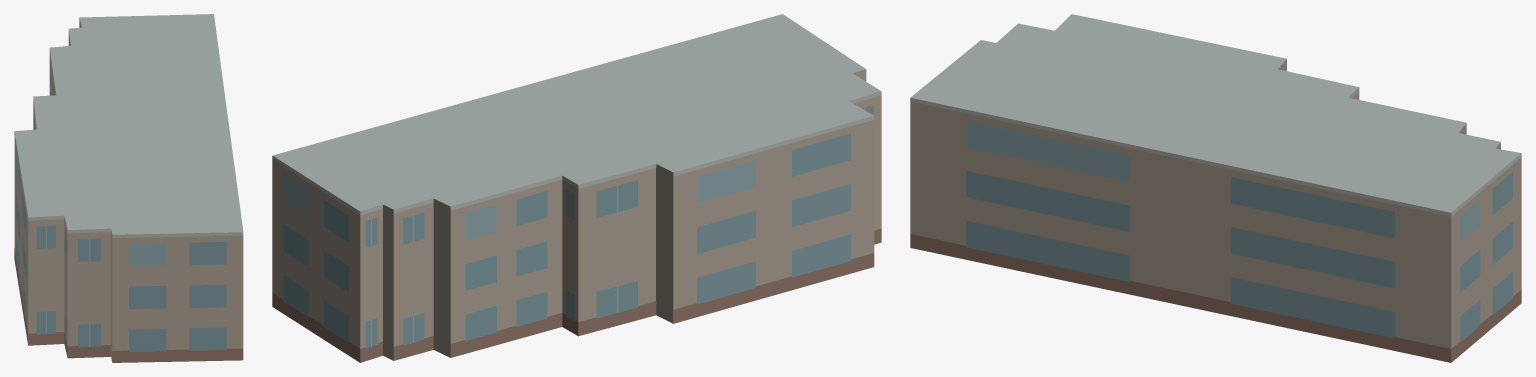
The model's file is survey-upis-32720054.glb.
3 views of the same model, side by side, from view 1: azimuth 30°, elevation 25°; view 2: azimuth 150°, elevation 25°; view 3: azimuth 270°, elevation 25° (orthographic). The views are drawn at different scales.
Visible parts, largest first — view 1: survey-upis-32720054.tmp; view 2: survey-upis-32720054.tmp; view 3: survey-upis-32720054.tmp.
Boxes of the visible parts, x1,y1,x2,y2 form: survey-upis-32720054.tmp: [14, 14, 243, 362]; survey-upis-32720054.tmp: [272, 14, 881, 362]; survey-upis-32720054.tmp: [910, 14, 1521, 362].
Size of the model in its own units: 25.99 by 9.15 by 33.78.
